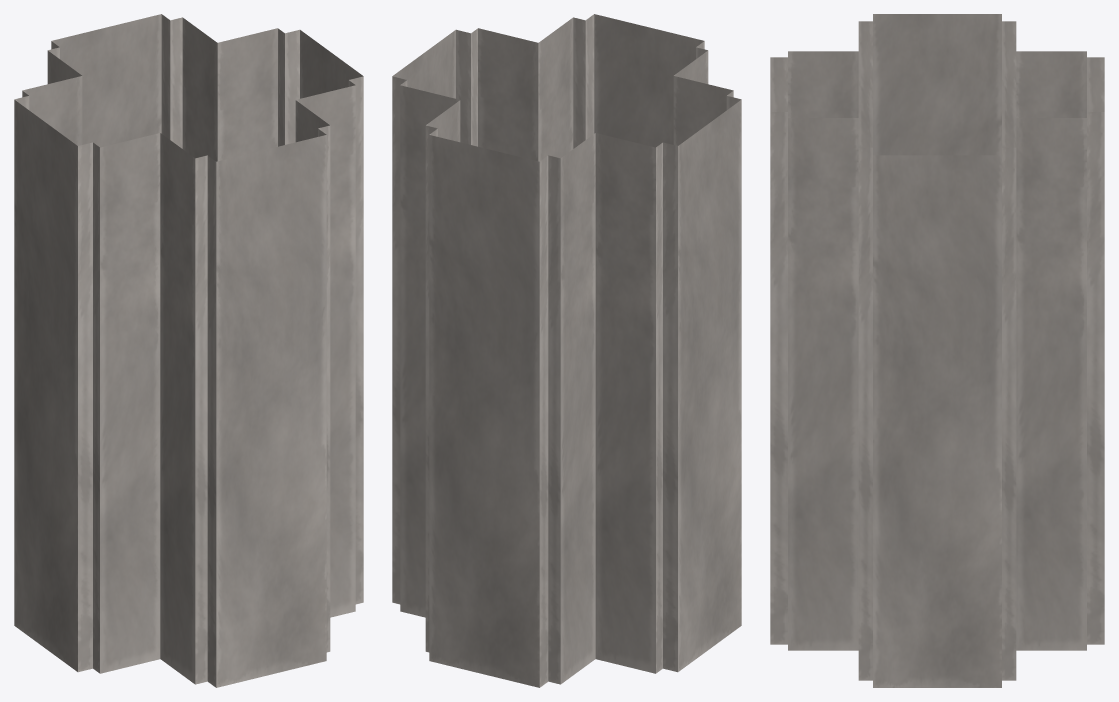
The model's file is Post_B_2m.fbx.
The picture shows the model from 3 angles, left to right: view 1: azimuth 30°, elevation 25°; view 2: azimuth 150°, elevation 25°; view 3: azimuth 270°, elevation 25°; orthographic projection.
Visible parts, largest first — view 1: Post_B_2m; view 2: Post_B_2m; view 3: Post_B_2m.
Part boxes in pixels (x1,y1,x2,y2): Post_B_2m: (14,14,363,687); Post_B_2m: (392,14,741,687); Post_B_2m: (770,14,1104,687).
Size of the model in its own units: 1.14 by 1.14 by 2.
